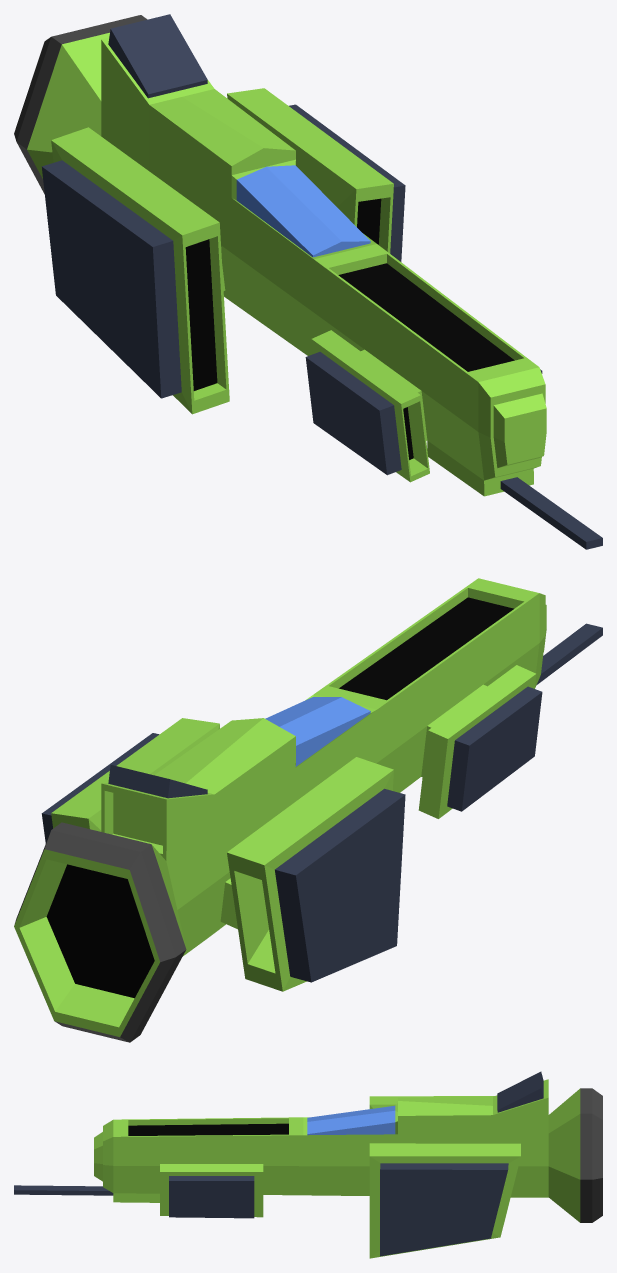
The model's file is StarryWanderer.fbx.
3 views of the same model, one above another, from view 1: azimuth 30°, elevation 25°; view 2: azimuth 150°, elevation 25°; view 3: azimuth 270°, elevation 25° (orthographic). The views are drawn at different scales.
Parts seen in each view (by area): view 1: StarryWanderer; view 2: StarryWanderer; view 3: StarryWanderer.
Part boxes in pixels (<box>): StarryWanderer: <box>14,14,602,549</box>; StarryWanderer: <box>14,578,602,1042</box>; StarryWanderer: <box>14,1071,602,1258</box>.
Bounding box in the file's own units: 9.91 × 9.68 × 34.08.
